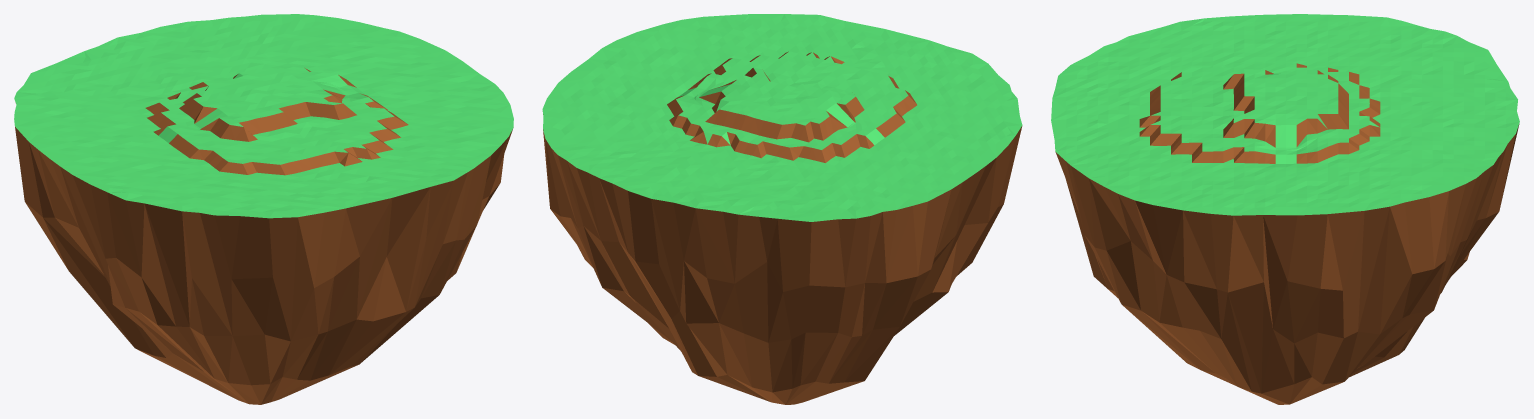
The model's file is IslandMain2.fbx.
3 views of the same model, side by side, from view 1: azimuth 30°, elevation 25°; view 2: azimuth 150°, elevation 25°; view 3: azimuth 270°, elevation 25° (orthographic).
Visible parts, largest first — view 1: IslandMainMesh, IslandMainMeshBottom; view 2: IslandMainMesh, IslandMainMeshBottom; view 3: IslandMainMesh, IslandMainMeshBottom.
Part boxes in pixels (x1=…): IslandMainMesh: x1=14, y1=14, x2=513, y2=218; IslandMainMeshBottom: x1=15, y1=127, x2=512, y2=404; IslandMainMesh: x1=542, y1=14, x2=1022, y2=221; IslandMainMeshBottom: x1=543, y1=114, x2=1022, y2=404; IslandMainMesh: x1=1051, y1=14, x2=1519, y2=215; IslandMainMeshBottom: x1=1055, y1=124, x2=1519, y2=404.
Size of the model in its own units: 13812 by 9605 by 13589.
